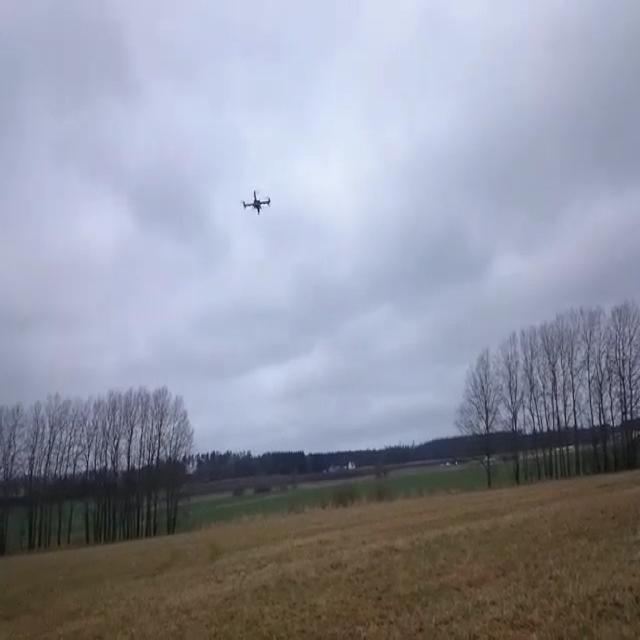drone: (240, 188, 271, 216)
